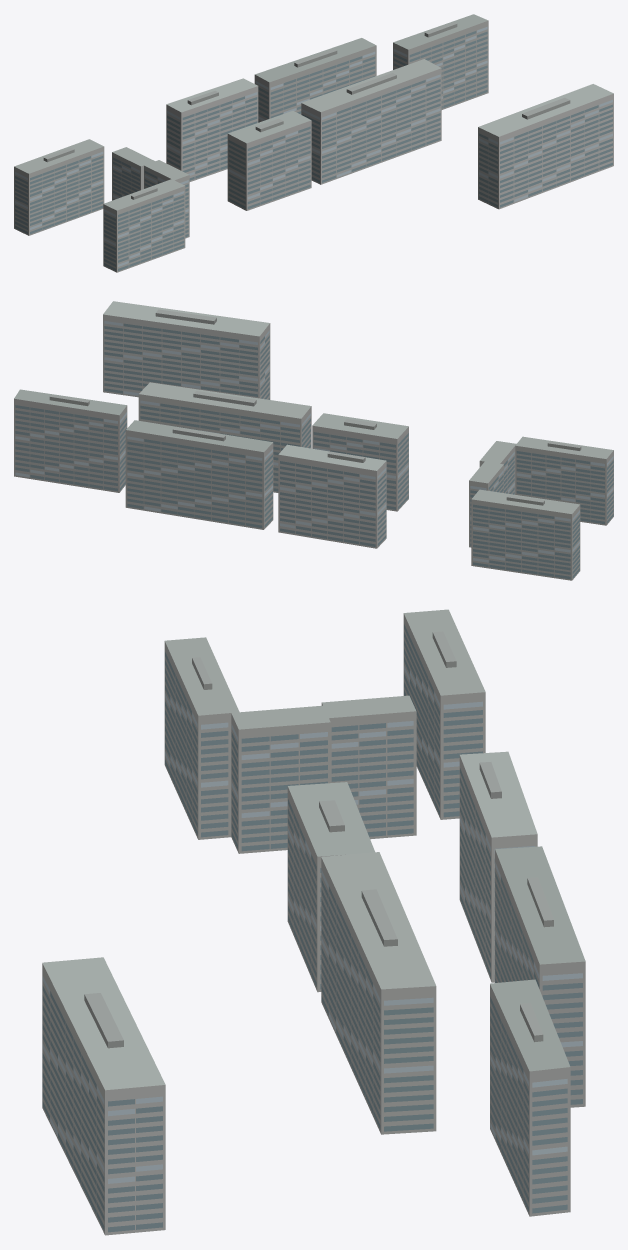
The model's file is apt-a13523005.glb.
3 renders of one model, top to bottom at view 1: azimuth 30°, elevation 25°; view 2: azimuth 150°, elevation 25°; view 3: azimuth 270°, elevation 25°, orthographic. The views are drawn at different scales.
Parts seen in each view (by area): view 1: apt-a13523005; view 2: apt-a13523005; view 3: apt-a13523005.
Boxes of the visible parts, box(x1,y1,x2,y2) form: apt-a13523005: box(14, 14, 613, 272); apt-a13523005: box(14, 301, 613, 580); apt-a13523005: box(42, 609, 585, 1235).
Size of the model in its own units: 339 by 47.81 by 155.
